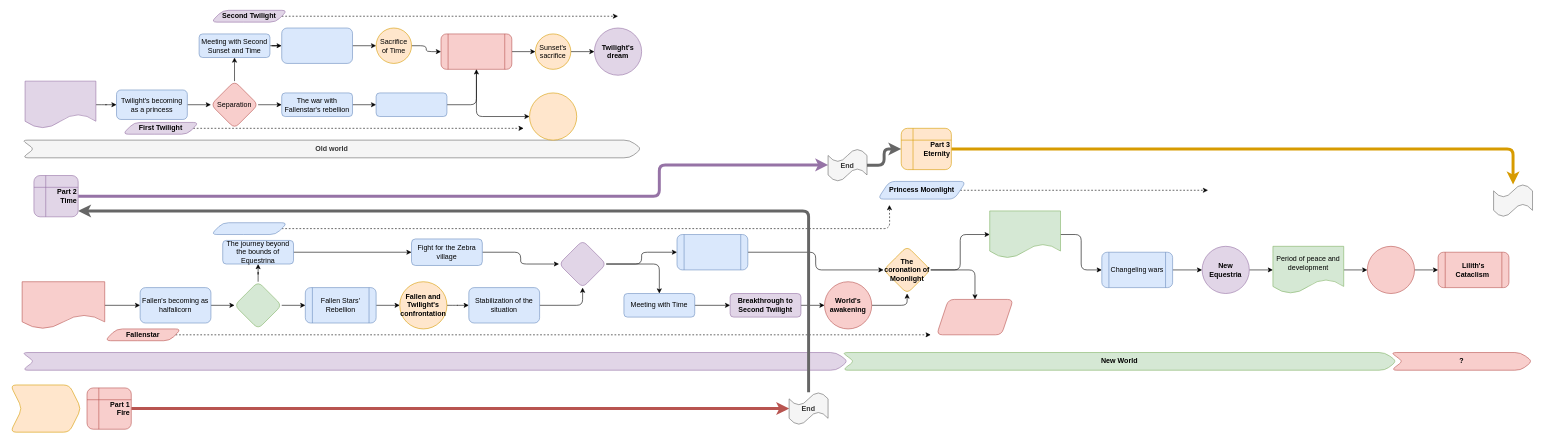
The diagram is 1543 pixels wide and 442 high, and some of its shapes have lost their labels. The shapes that lost their labels are listed below. From the top down, each one's centre as x and y in pixels, then its label:
(317,45): Attempts to stop teamed up enemies (Tirek, Chrisalis, Fallen)
(476,51): The last battle
(60,104): Common history (Up to Twilight's birth)
(411,104): The fall of Equestria
(553,116): The death of the princesses
(1513,200): The End?
(249,228): Moonlight
(1025,234): Founding of the Dominion of Destruction
(582,264): Moonlight's ascention
(712,252): Equestria stands!
(1391,270): Fallenstar's return
(63,305): Common history (Up to Starfall's birth)
(258,305): Meeting with Moonlight
(974,317): Fallenstar and Second Twilight departure
(435,361): Sleeping world
(45,408): The beginning of the story
